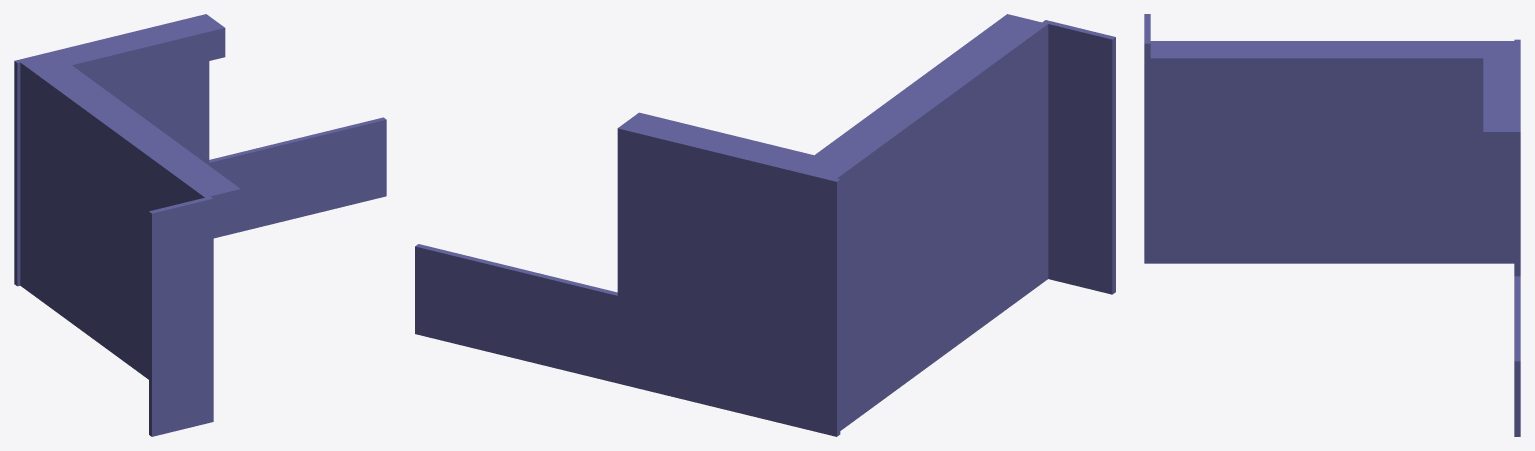
The model's file is MOD_ LOBBY vatel walls.fbx.
3 views of the same model, side by side, from view 1: azimuth 30°, elevation 25°; view 2: azimuth 150°, elevation 25°; view 3: azimuth 270°, elevation 25° (orthographic). The views are drawn at different scales.
Parts seen in each view (by area): view 1: wall42, wall23, wall41; view 2: wall23, wall42, wall41; view 3: wall42, wall23, wall41.
Boxes of the visible parts, x1=… form: wall42: x1=20, y1=53, x2=240, y2=379; wall23: x1=14, y1=14, x2=386, y2=286; wall41: x1=149, y1=196, x2=213, y2=436; wall23: x1=415, y1=112, x2=840, y2=436; wall42: x1=796, y1=14, x2=1048, y2=430; wall41: x1=1042, y1=20, x2=1115, y2=294; wall42: x1=1150, y1=41, x2=1514, y2=263; wall23: x1=1483, y1=39, x2=1520, y2=436; wall41: x1=1144, y1=14, x2=1150, y2=263.
Bounding box in the file's own units: 792 × 400 × 620.
